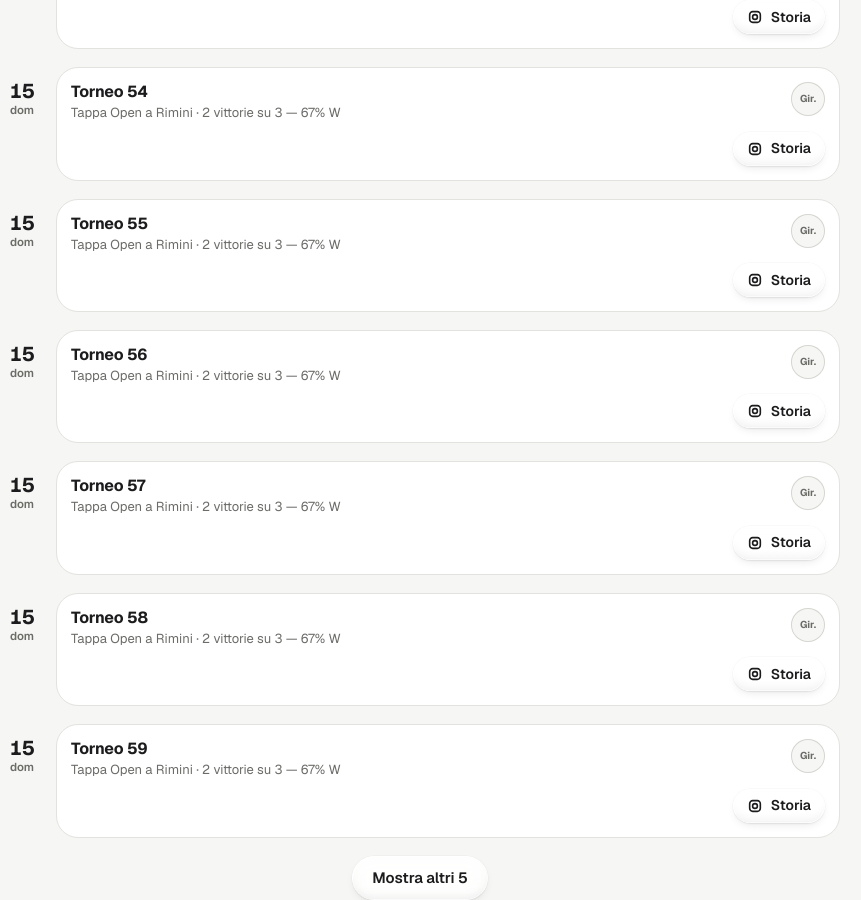
Test: Timeline — paginazione › oltre 60 voci propone «Mostra altri», che porta il focus alla prima nuova
(page scrolled)
Expected: the link "Torneo 60" is not shown
Step 1. Click the button "Mostra altri 5" → click(420, 878), box [352,856,488,899]
(page scrolled)
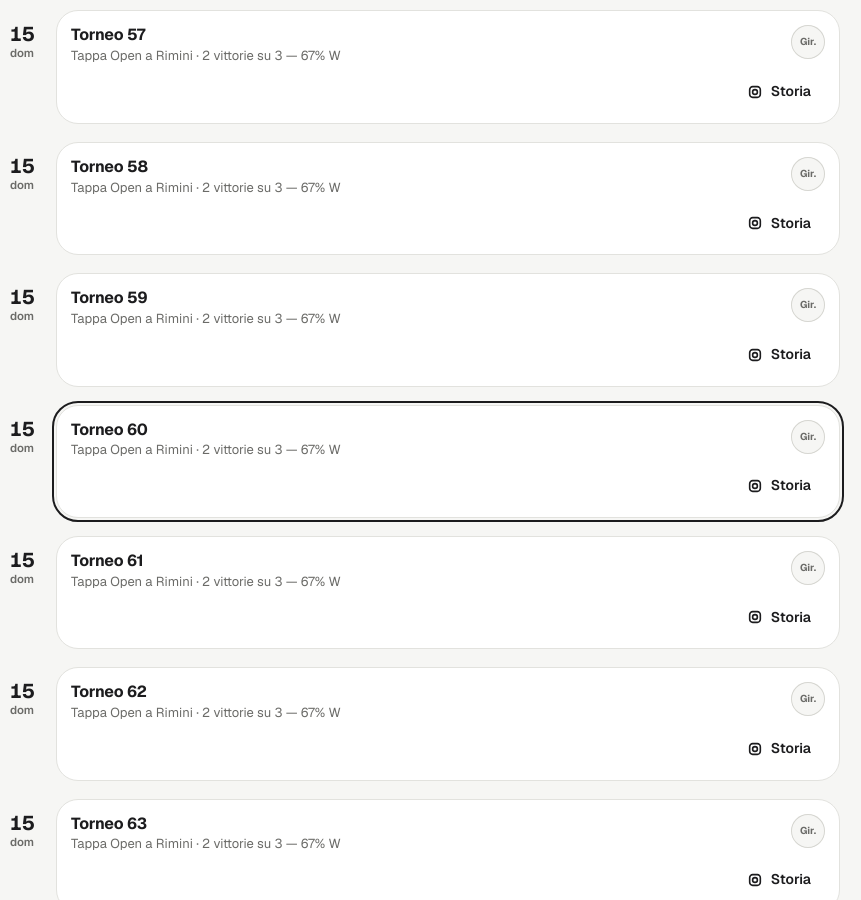
Result: the button "Mostra altri" is gone
